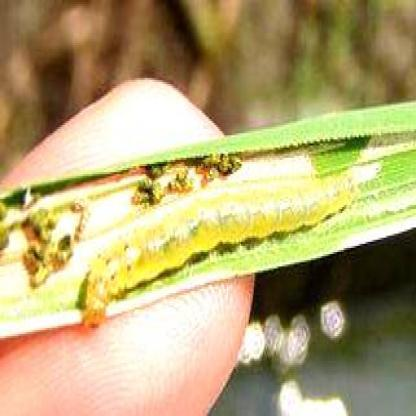leaf-folder: (60, 164, 360, 325)
